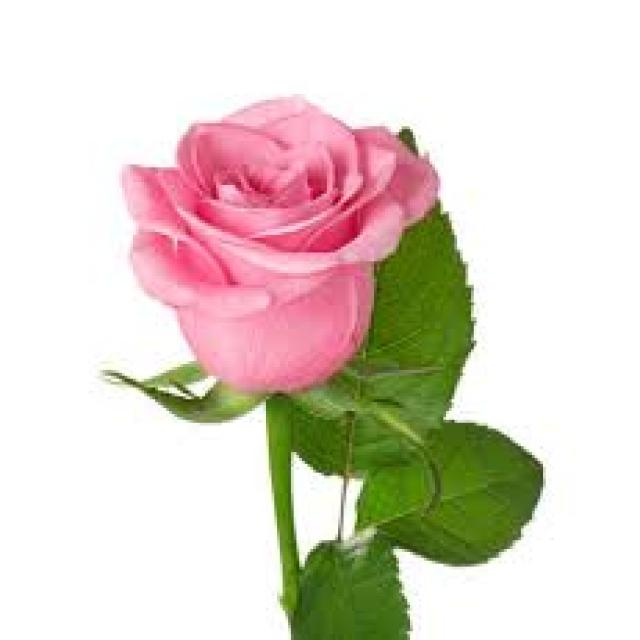rose: (105, 103, 469, 414)
